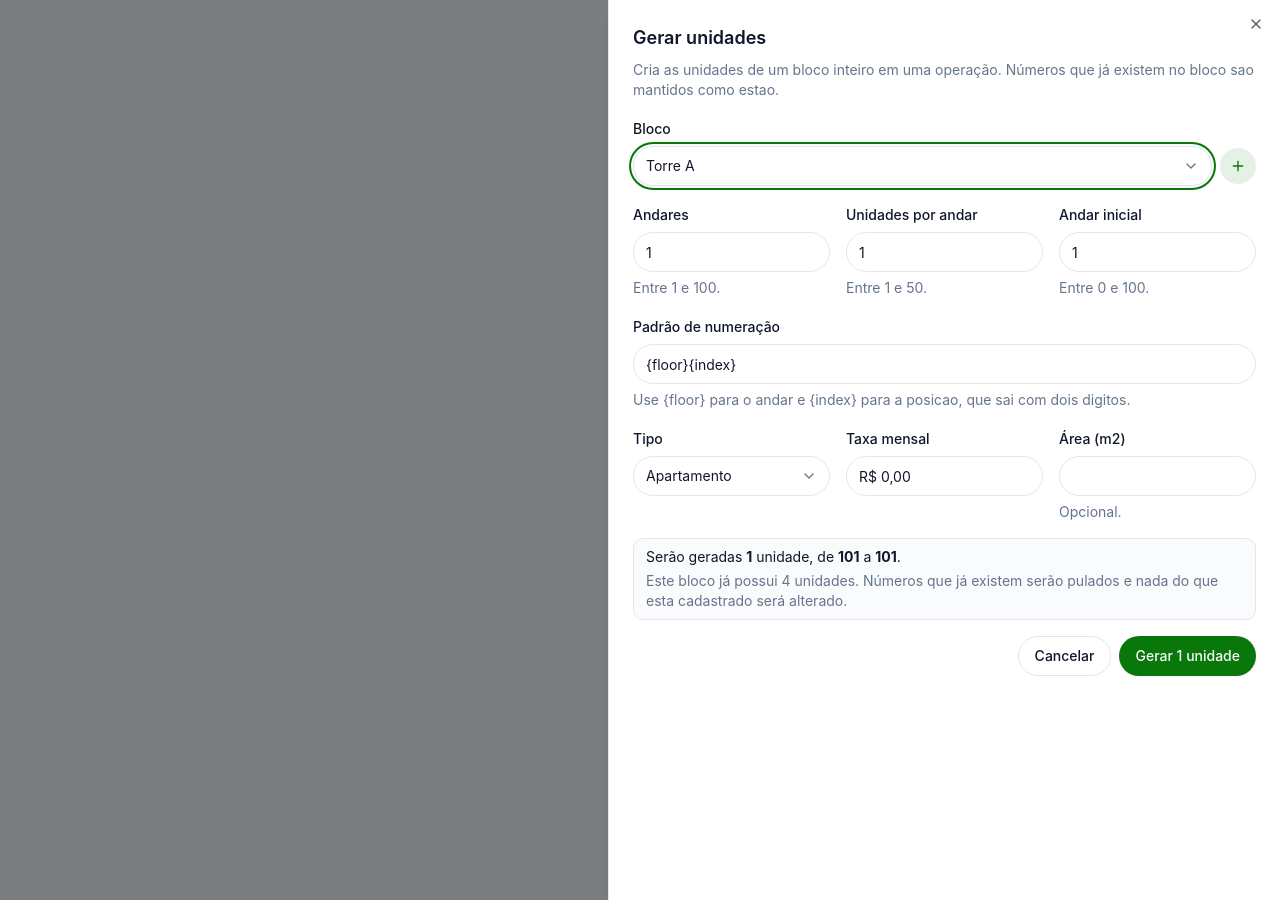
Test: Geração de unidades em lote › IT-061: recusa por números já existentes e um desfecho, não uma falha
Replace the text in the field labelled "Andares" with "2" at point(732, 252), box [633,232,830,272]
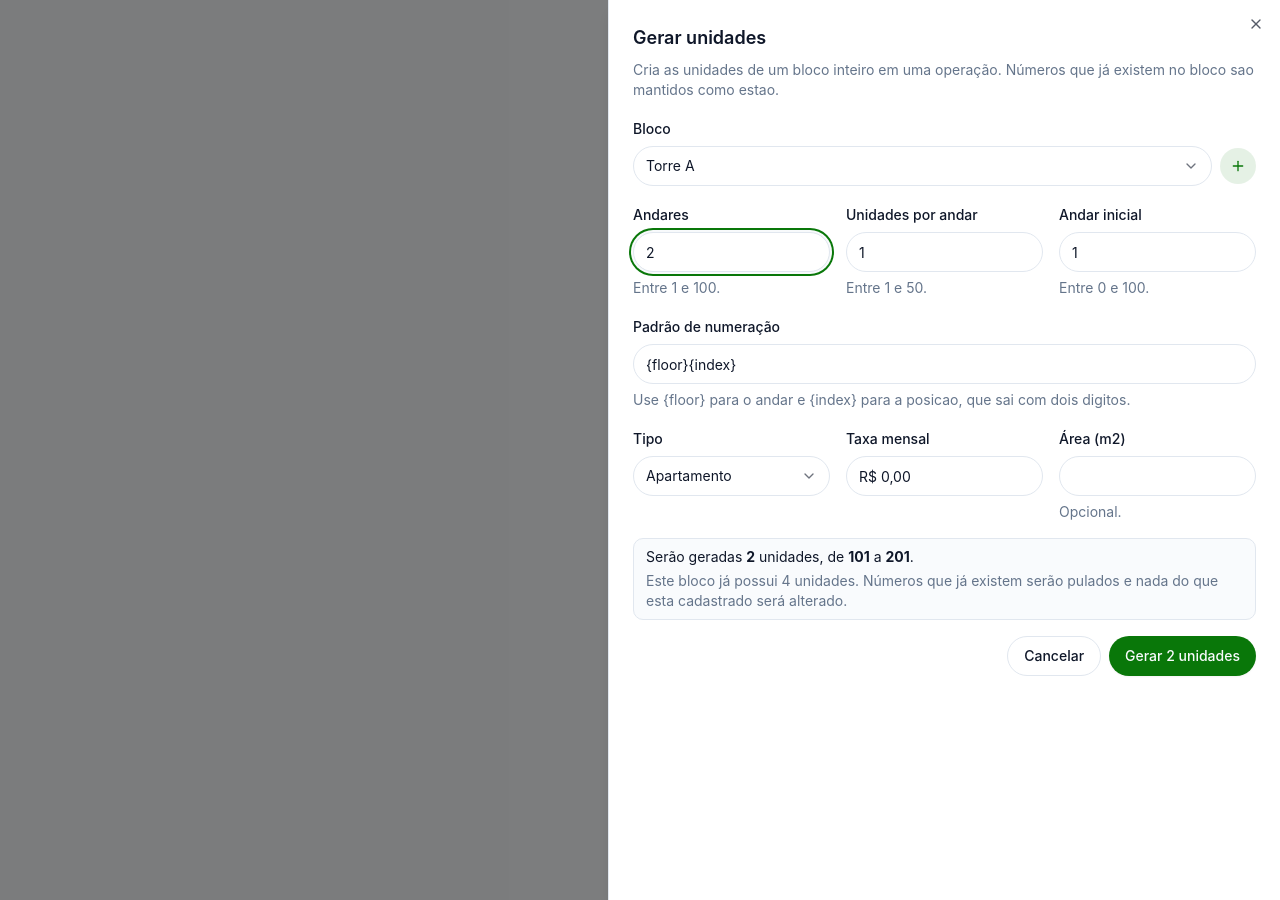
Replace the text in the field labelled "Unidades por andar" with "2" at point(944, 252), box [846,232,1043,272]
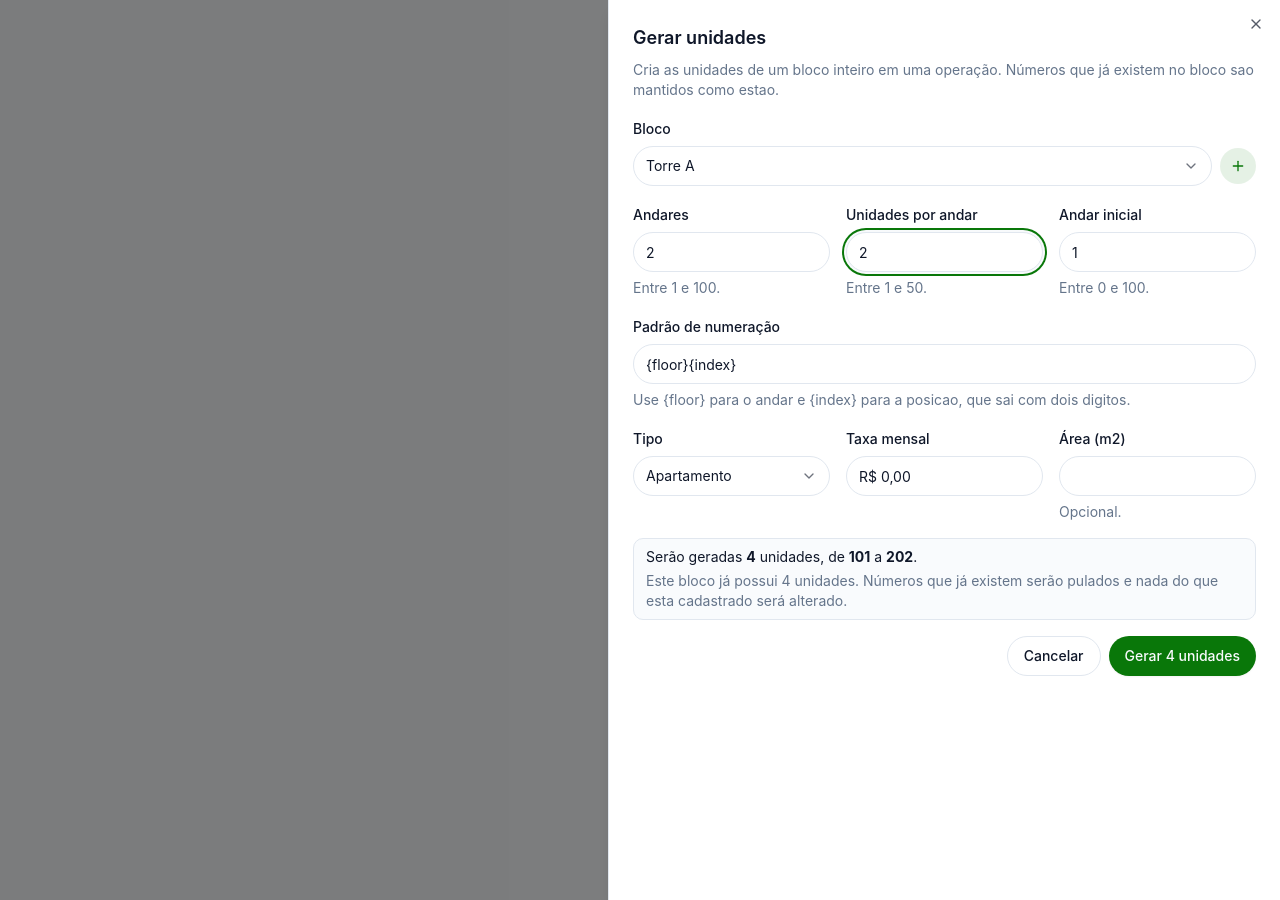
Click the button "Gerar 4 unidades" at point(1182, 656), box [1108,636,1256,676]
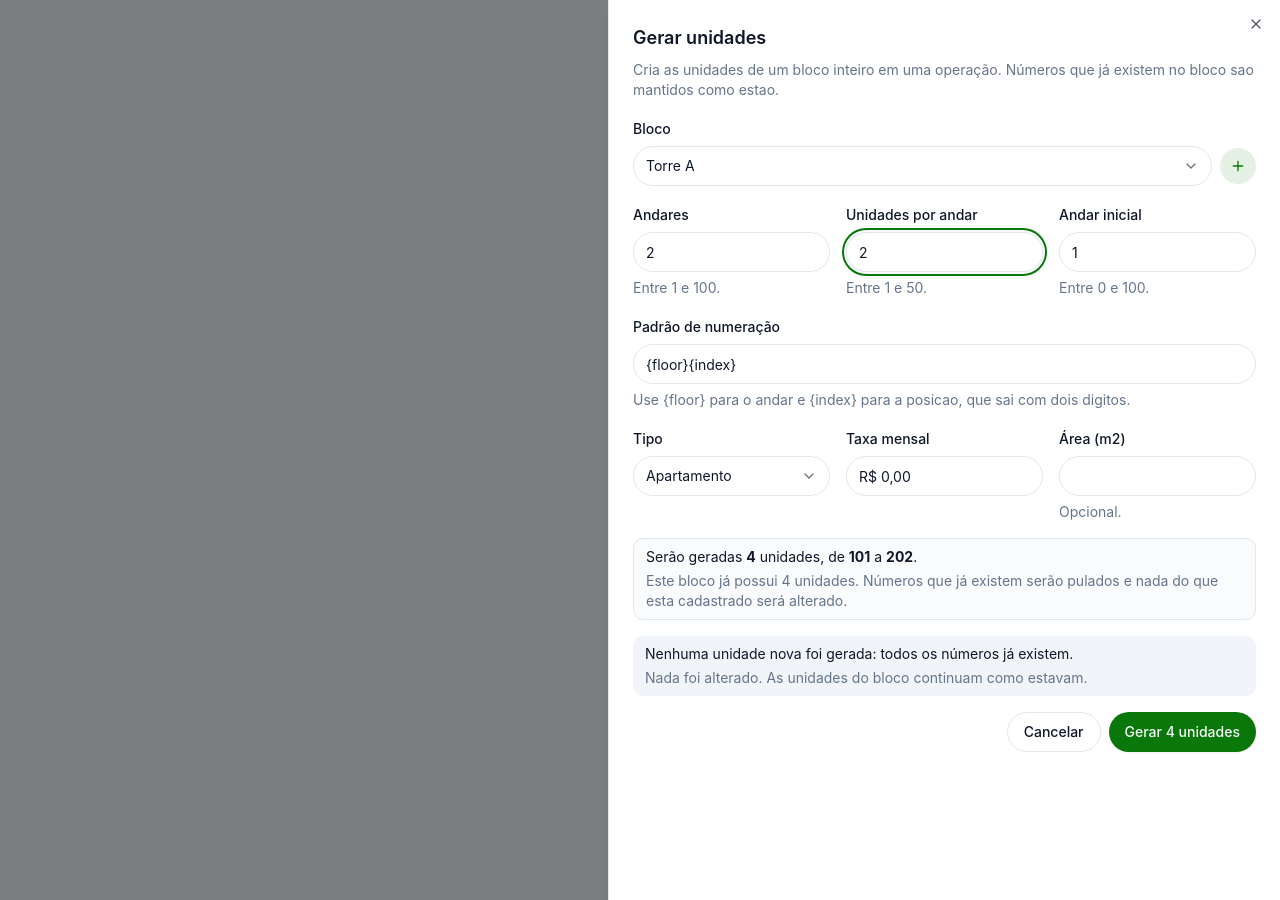
Now the text "Nenhuma unidade nova foi gerada: todos os números já existem." is shown, box [645,645,1073,662]
Now the message is shown, box [633,636,1256,696]
Now the text "Nada foi alterado" is shown, box [645,669,1088,686]
